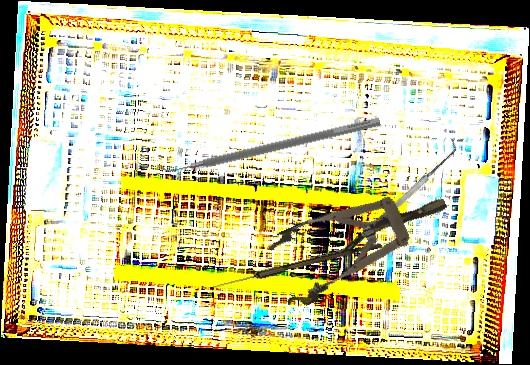Spatula Surgical: (156, 106, 382, 182), (334, 137, 465, 256)
Speculum: (261, 168, 461, 312)
Surgical Spoon: (211, 238, 383, 293)
